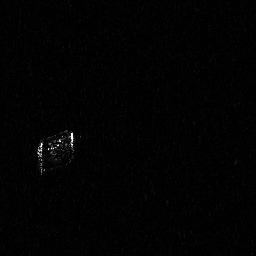ship: (32, 126, 79, 179)
